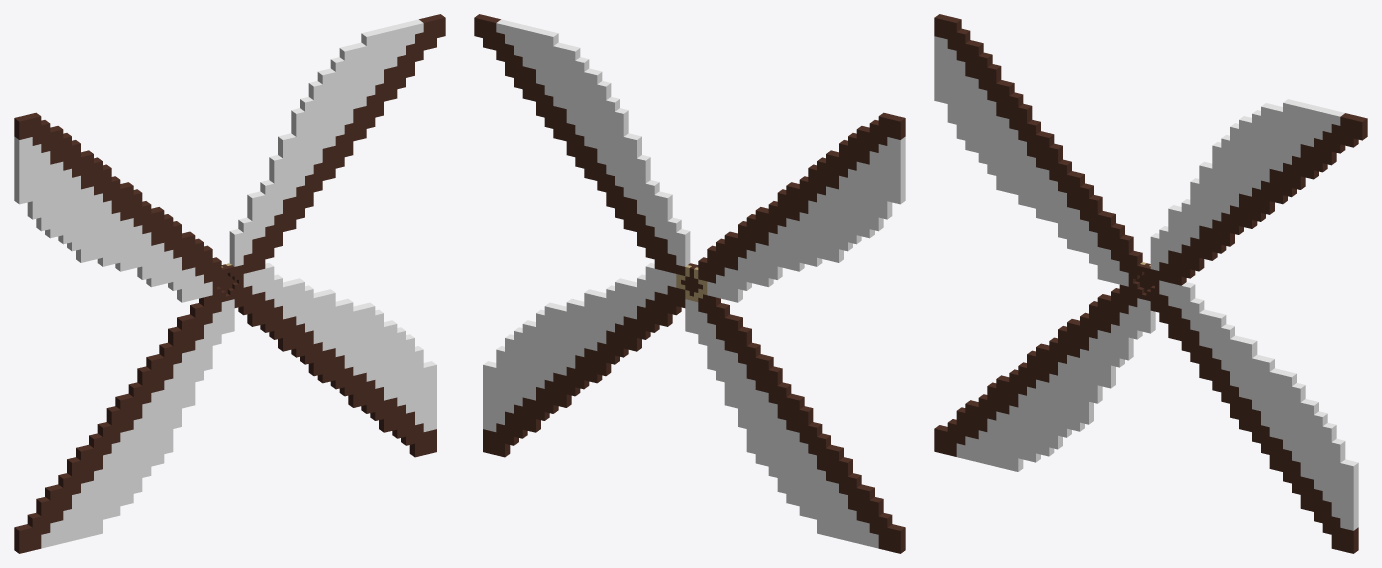
Rendered from windmill_propellor.obj.
3 views of the same model, side by side, from view 1: azimuth 30°, elevation 25°; view 2: azimuth 150°, elevation 25°; view 3: azimuth 330°, elevation 25° (orthographic).
Size of the model in its own units: 9.7 by 9.4 by 0.2.
Materials: 1 (1 with a texture image).
